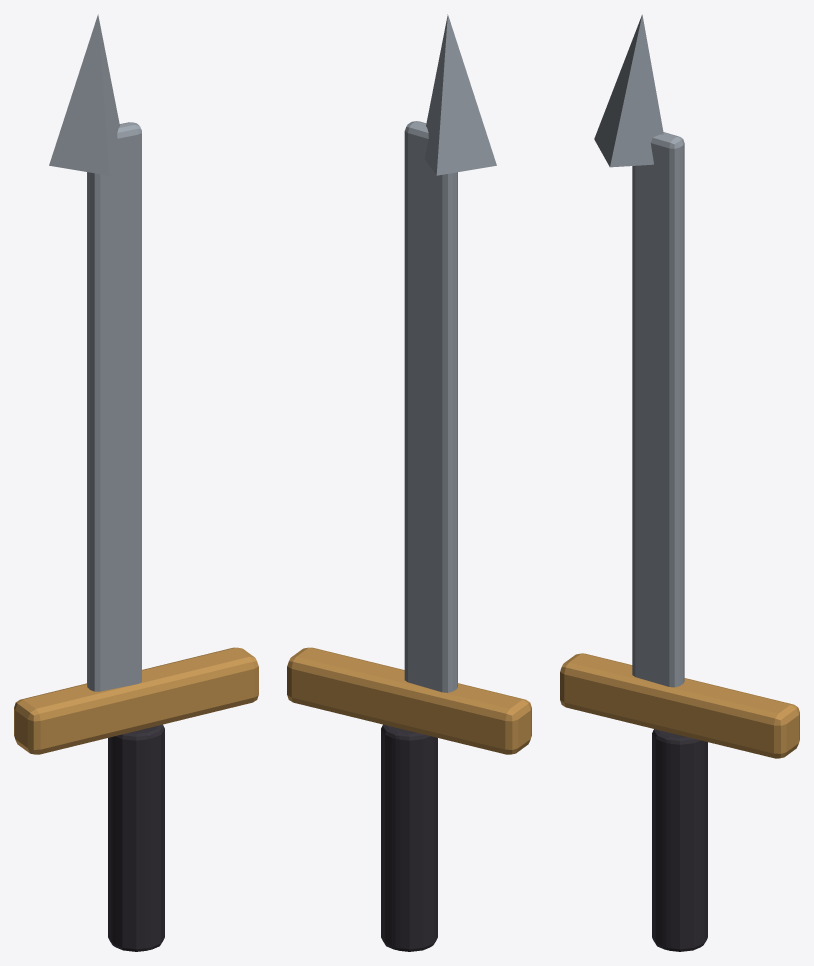
Rendered from oathblade.glb.
The picture shows the model from 3 angles, left to right: view 1: azimuth 30°, elevation 25°; view 2: azimuth 150°, elevation 25°; view 3: azimuth 330°, elevation 25°; orthographic projection.
Parts seen in each view (by area): view 1: Oathblade_Blade, Oathblade_Guard, Oathblade_Grip, Oathblade_Tip; view 2: Oathblade_Blade, Oathblade_Guard, Oathblade_Grip, Oathblade_Tip; view 3: Oathblade_Blade, Oathblade_Guard, Oathblade_Grip, Oathblade_Tip.
Boxes of the visible parts, x1,y1,x2,y2 form: Oathblade_Blade: [87, 122, 141, 691]; Oathblade_Guard: [14, 647, 258, 754]; Oathblade_Grip: [108, 724, 164, 951]; Oathblade_Tip: [49, 14, 121, 175]; Oathblade_Blade: [404, 121, 457, 692]; Oathblade_Guard: [287, 647, 531, 754]; Oathblade_Grip: [381, 724, 437, 951]; Oathblade_Tip: [424, 14, 496, 175]; Oathblade_Blade: [632, 132, 684, 687]; Oathblade_Guard: [560, 653, 799, 758]; Oathblade_Grip: [652, 729, 707, 951]; Oathblade_Tip: [594, 14, 663, 167].
Size of the model in its own units: 0.42 by 1.63 by 0.14.
